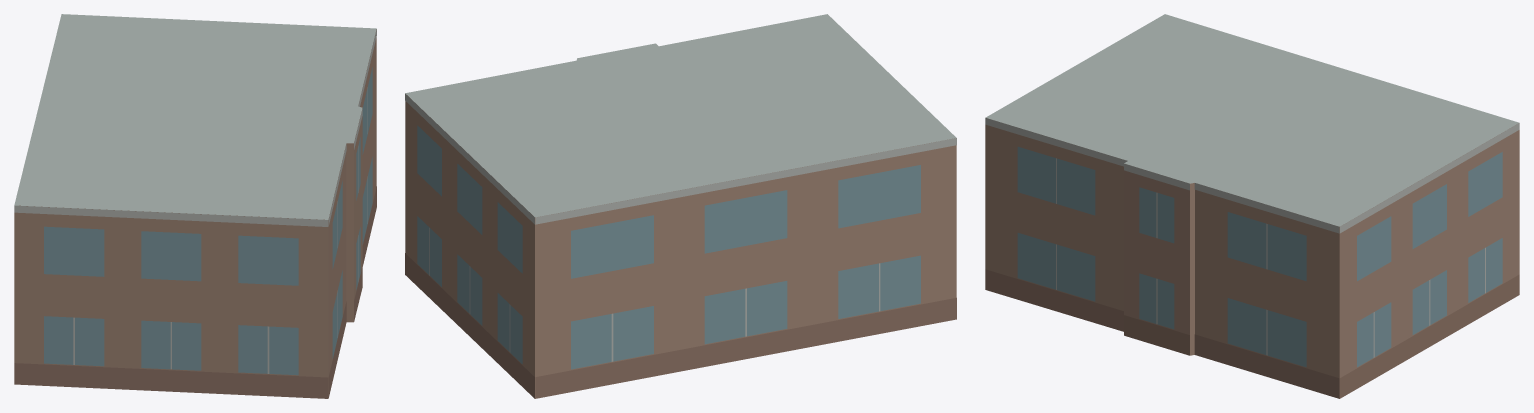
File: survey-upis-32623665.glb
The picture shows the model from 3 angles, left to right: view 1: azimuth 30°, elevation 25°; view 2: azimuth 150°, elevation 25°; view 3: azimuth 270°, elevation 25°; orthographic projection. The views are drawn at different scales.
Visible parts, largest first — view 1: survey-upis-32623665.tmp; view 2: survey-upis-32623665.tmp; view 3: survey-upis-32623665.tmp.
Part boxes in pixels (left/top/right/bottom): survey-upis-32623665.tmp: left=14, top=14, right=376, bottom=398; survey-upis-32623665.tmp: left=405, top=14, right=956, bottom=398; survey-upis-32623665.tmp: left=985, top=14, right=1519, bottom=398.
Size of the model in its own units: 16.18 by 6.1 by 17.17.
